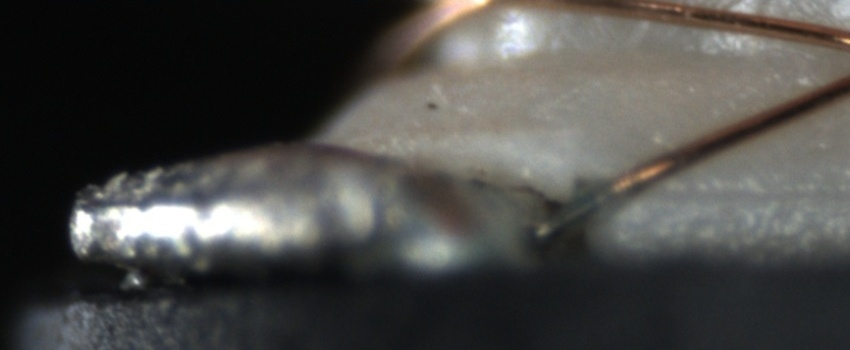DL: (624, 158, 849, 222)
TS: (537, 185, 620, 244)
